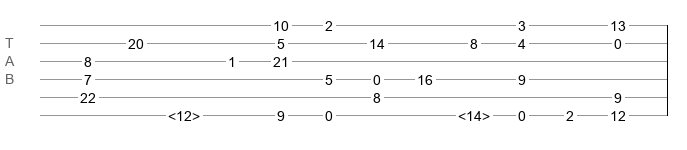0: (325, 108, 333, 118), (373, 72, 381, 82), (518, 108, 526, 118), (614, 36, 622, 46)
1: (228, 54, 236, 64)
10: (273, 18, 289, 28)
12: (610, 108, 626, 118)
13: (610, 18, 626, 28)
14: (369, 36, 385, 46)
16: (417, 72, 433, 82)
2: (325, 18, 333, 28), (566, 108, 574, 118)
20: (128, 36, 144, 46)
21: (273, 54, 289, 64)
22: (80, 90, 96, 100)
3: (518, 18, 526, 28)
4: (518, 36, 526, 46)
5: (277, 36, 285, 46), (325, 72, 333, 82)
7: (84, 72, 92, 82)
8: (84, 54, 92, 64), (373, 90, 381, 100), (470, 36, 478, 46)
9: (277, 108, 285, 118), (518, 72, 526, 82), (614, 90, 622, 100)
harmonic: (168, 108, 200, 118), (458, 108, 490, 118)
